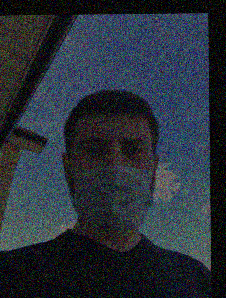with_mask: (72, 128, 154, 237)
